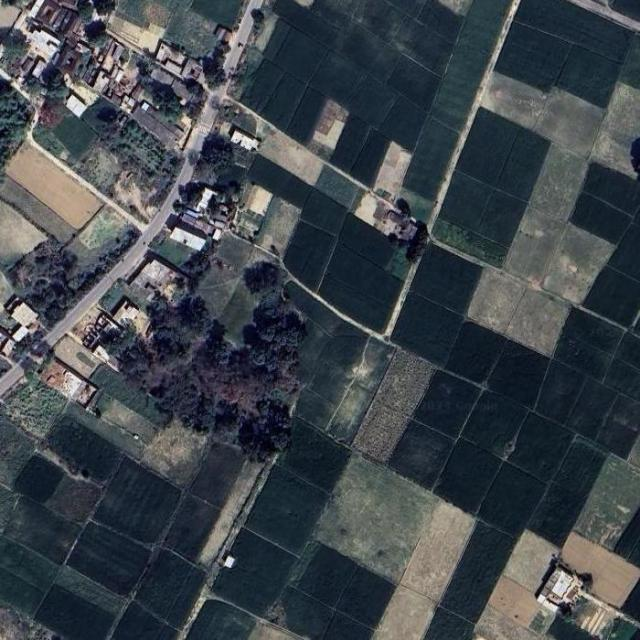land-Sx1C: (310, 455, 440, 584), (431, 0, 516, 134), (349, 350, 436, 467), (527, 436, 609, 550), (3, 141, 103, 230), (326, 336, 397, 448), (93, 456, 182, 545), (210, 528, 300, 616), (513, 0, 635, 64), (310, 0, 402, 84), (292, 322, 362, 431), (441, 523, 516, 624), (400, 502, 475, 603), (244, 466, 328, 555), (59, 207, 142, 294), (197, 459, 263, 568), (439, 173, 527, 250), (573, 454, 640, 552), (65, 522, 151, 597), (281, 281, 370, 353), (541, 223, 617, 306), (561, 531, 640, 609), (274, 417, 352, 495), (135, 548, 207, 630), (477, 463, 550, 540), (390, 293, 464, 368), (431, 439, 503, 516), (494, 22, 571, 94), (90, 363, 173, 429), (3, 496, 82, 565), (409, 244, 483, 316), (0, 177, 78, 244), (533, 88, 606, 159), (62, 401, 145, 462), (47, 416, 123, 482), (455, 108, 520, 185), (505, 205, 566, 287), (590, 82, 640, 180), (326, 243, 402, 307), (401, 119, 460, 201), (142, 419, 211, 488), (508, 413, 575, 483), (529, 144, 589, 222), (388, 422, 455, 491), (34, 584, 116, 640), (414, 371, 481, 439), (255, 118, 324, 184), (462, 391, 528, 459), (505, 289, 571, 357), (318, 275, 393, 334), (487, 341, 551, 409), (3, 378, 70, 442), (494, 128, 551, 202), (432, 217, 509, 270), (557, 47, 623, 108), (190, 442, 250, 509), (445, 320, 507, 384), (284, 221, 338, 294), (295, 547, 358, 609), (480, 71, 547, 129), (163, 496, 221, 562), (336, 568, 397, 630), (54, 567, 128, 618), (469, 269, 527, 334), (319, 0, 406, 43), (369, 586, 437, 640), (582, 266, 640, 329), (0, 196, 48, 272), (504, 531, 560, 596), (88, 392, 159, 443), (392, 17, 453, 76), (247, 154, 313, 208), (266, 586, 332, 640), (215, 279, 263, 352), (566, 379, 619, 442), (568, 193, 633, 244), (338, 213, 396, 269), (536, 360, 586, 424), (0, 537, 58, 592), (253, 196, 302, 259), (582, 162, 640, 215), (274, 0, 339, 47), (273, 28, 327, 84), (388, 57, 441, 114), (45, 475, 104, 526), (563, 307, 625, 355), (184, 600, 258, 640), (11, 454, 67, 506), (309, 53, 365, 104), (163, 7, 216, 60), (0, 413, 37, 488), (115, 0, 188, 38), (353, 193, 409, 242), (192, 263, 240, 320), (553, 335, 611, 382), (110, 602, 180, 640), (345, 75, 395, 128), (489, 578, 541, 628), (329, 114, 372, 174), (286, 86, 328, 147), (262, 75, 306, 133), (372, 142, 412, 205), (240, 59, 285, 114), (350, 130, 391, 190), (380, 98, 426, 150), (301, 190, 350, 237), (315, 165, 364, 211), (475, 606, 541, 640), (608, 211, 640, 281), (0, 604, 62, 640), (0, 569, 46, 616), (417, 0, 466, 44), (53, 336, 101, 379), (52, 115, 97, 160), (107, 17, 159, 55), (596, 418, 639, 460), (190, 0, 246, 31), (30, 0, 78, 34), (423, 608, 473, 640), (80, 94, 120, 134), (605, 359, 640, 402), (322, 612, 374, 640), (615, 510, 640, 568), (214, 234, 252, 270), (573, 600, 611, 636), (617, 32, 640, 89), (228, 208, 264, 243), (545, 617, 599, 640), (316, 99, 350, 134), (610, 394, 640, 432), (244, 183, 275, 219), (264, 20, 290, 61), (313, 119, 346, 150), (254, 13, 279, 53), (527, 604, 556, 638), (248, 622, 301, 640), (0, 484, 18, 534), (615, 332, 640, 368), (385, 246, 411, 280), (602, 616, 638, 640), (385, 0, 427, 18), (607, 0, 640, 22), (623, 579, 640, 621), (306, 139, 334, 163), (435, 0, 474, 17), (627, 435, 640, 468), (632, 628, 640, 640)
